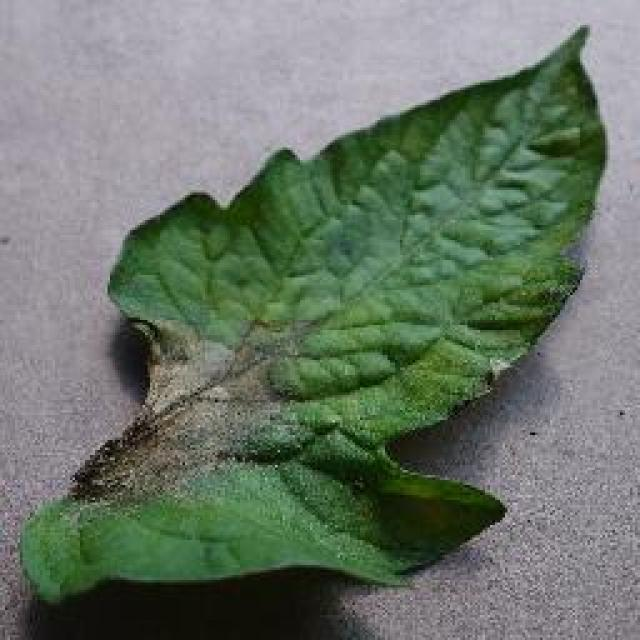Tomato Late Blight: (63, 325, 402, 523)
